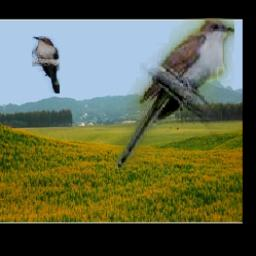Cuckoo: (115, 18, 234, 169), (33, 37, 61, 94)
